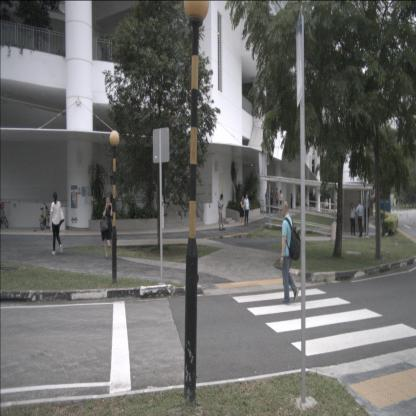human-pedestrian-adult: (279, 200, 301, 306), (100, 197, 116, 260), (49, 192, 64, 256), (217, 193, 226, 232), (356, 200, 364, 237), (364, 199, 370, 237), (244, 193, 250, 227), (350, 202, 356, 236), (240, 195, 245, 227), (275, 187, 280, 214), (269, 187, 274, 214), (265, 188, 269, 214), (279, 189, 283, 213), (290, 194, 293, 210), (326, 200, 328, 212), (323, 200, 325, 212)
vehicle-bicycle: (40, 202, 52, 231), (0, 201, 9, 228)
vehicle-bus-rigid: (376, 186, 391, 219)
